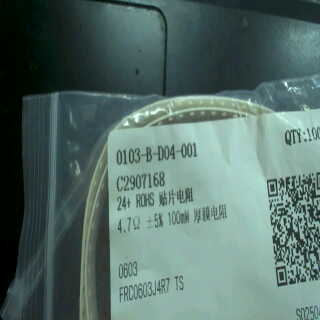4.7R: (113, 211, 145, 236)
